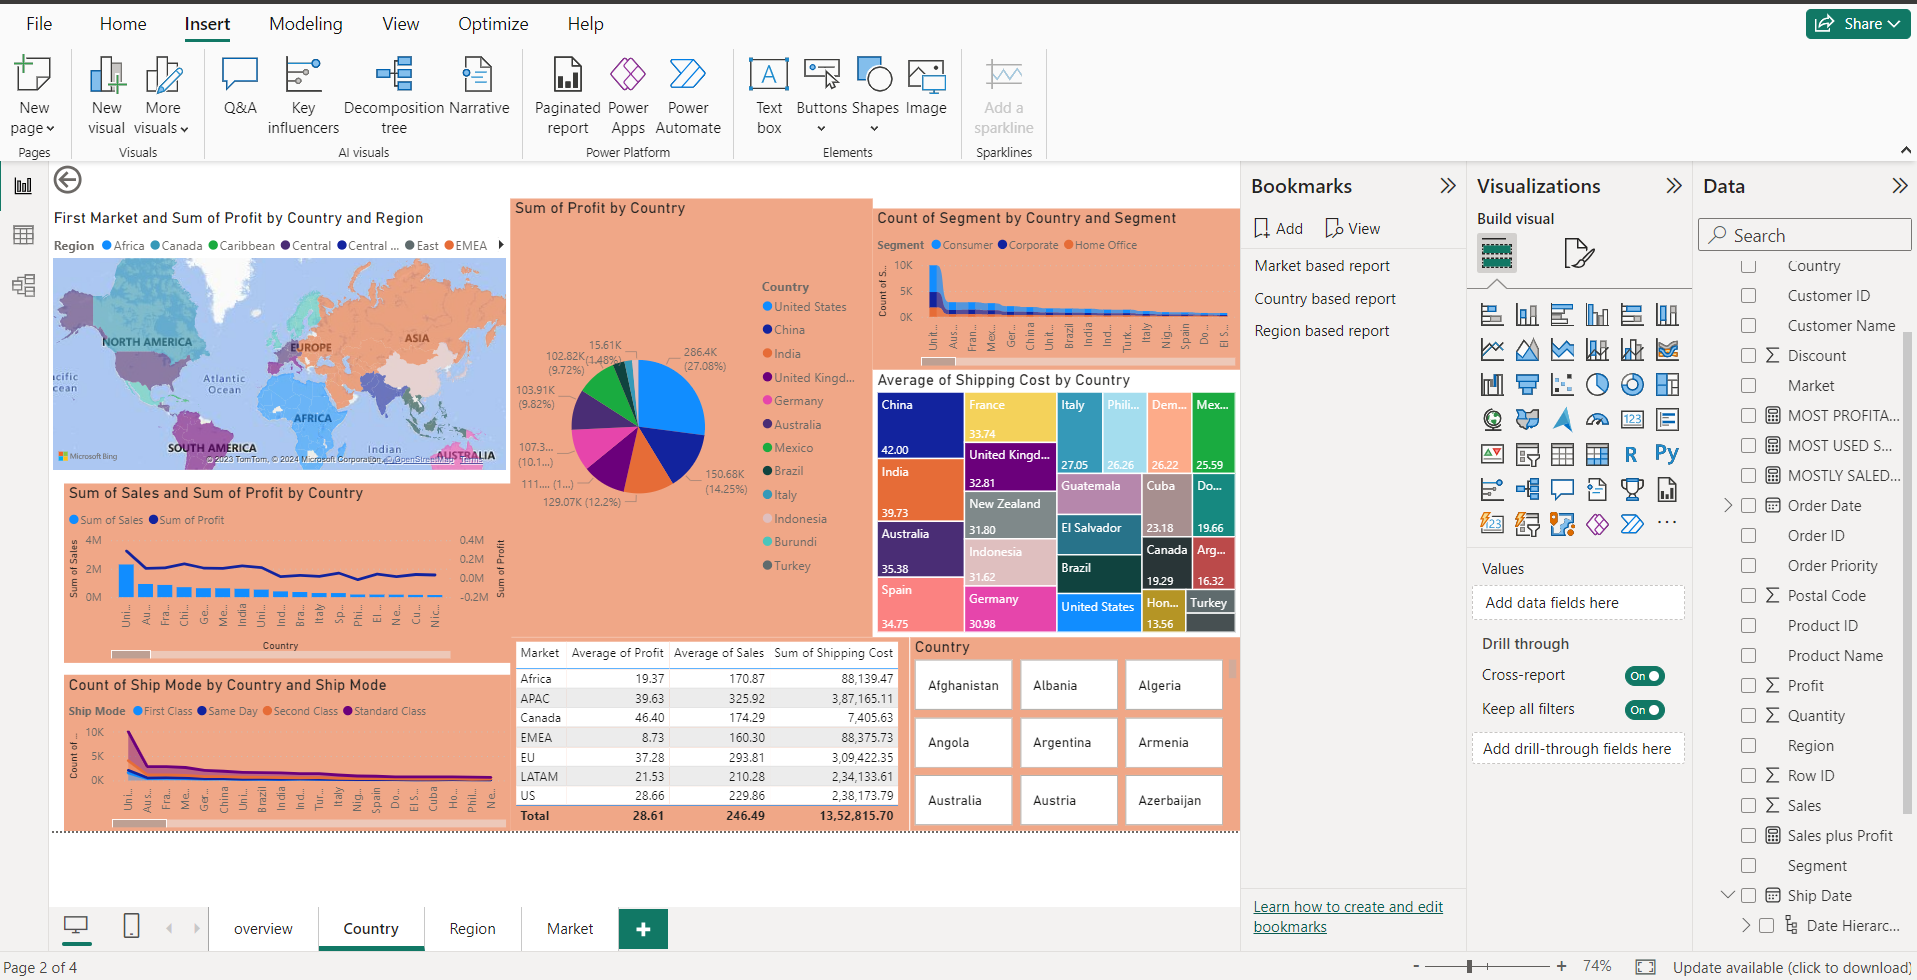

This screenshot's page, from the dashboard's own definition file:
{"tool":"powerbi","page":{"name":"Country","canvas":[1280,720],"ordinal":1},"visuals":[{"type":"filledMap","fields":{"X":["Min(Orders.Market)"],"Category":["Orders.Country"],"Series":["Orders.Region"]},"box":[0,51.3,496.3,286],"z":0},{"type":"lineClusteredColumnComboChart","fields":{"Category":["Orders.Country"],"Y":["Sum(Orders.Sales)"],"Y2":["Sum(Orders.Profit)"]},"box":[15.9,347.2,480.4,193.1],"z":1000},{"type":"pieChart","fields":{"Category":["Orders.Country"],"Y":["Sum(Orders.Profit)"]},"box":[495.7,40.3,389.6,471.5],"z":2000},{"type":"stackedAreaChart","fields":{"Category":["Orders.Country"],"Y":["CountNonNull(Orders.Ship Mode)"],"Series":["Orders.Ship Mode"]},"box":[16.5,551.6,480.3,168.8],"z":3000},{"type":"ribbonChart","fields":{"Category":["Orders.Country"],"Y":["CountNonNull(Orders.Segment)"],"Series":["Orders.Segment"]},"box":[885,51.3,394.8,173.6],"z":4000},{"type":"treemap","fields":{"Group":["Orders.Country"],"Values":["Avg(Orders.Shipping Cost)"]},"box":[885,224.9,394.8,287.3],"z":5000},{"type":"tableEx","fields":{"Values":["Orders.Market","Avg(Orders.Profit)","Avg(Orders.Sales)","Sum(Orders.Shipping Cost)"]},"box":[496.3,512.2,429.1,207.8],"z":6000},{"type":"actionButton","box":[0,0,100,40],"z":7000},{"type":"advancedSlicerVisual","fields":{"Values":["Orders.Country"]},"box":[925,512,355,208],"z":8000}]}

Visuals, with their boxes on the page's 1280x720 design canvas (x1, y1, x2, y2). These are canvas units, not pixel positions in the 1917x980 screenshot, which may show the page scaled, cropped or inside an application window:
filledMap - Min(Orders.Market) x Orders.Country: {"left": 0, "top": 51, "right": 496, "bottom": 337}
lineClusteredColumnComboChart - Orders.Country x Sum(Orders.Sales): {"left": 16, "top": 347, "right": 496, "bottom": 540}
pieChart - Orders.Country x Sum(Orders.Profit): {"left": 496, "top": 40, "right": 885, "bottom": 512}
stackedAreaChart - Orders.Country x CountNonNull(Orders.Ship Mode): {"left": 16, "top": 552, "right": 497, "bottom": 720}
ribbonChart - Orders.Country x CountNonNull(Orders.Segment): {"left": 885, "top": 51, "right": 1280, "bottom": 225}
treemap - Orders.Country x Avg(Orders.Shipping Cost): {"left": 885, "top": 225, "right": 1280, "bottom": 512}
tableEx - Orders.Market x Avg(Orders.Profit): {"left": 496, "top": 512, "right": 925, "bottom": 720}
actionButton: {"left": 0, "top": 0, "right": 100, "bottom": 40}
advancedSlicerVisual - Orders.Country: {"left": 925, "top": 512, "right": 1280, "bottom": 720}
